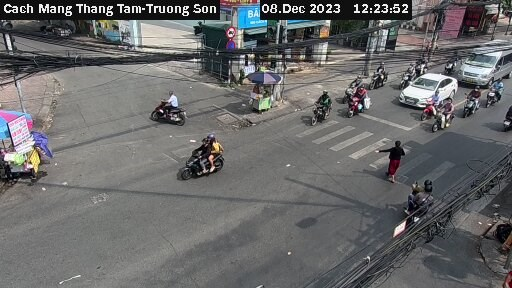car: (399, 70, 461, 114), (457, 38, 512, 87)
motorbike: (167, 138, 241, 183), (142, 91, 201, 126), (403, 180, 439, 221), (345, 85, 383, 122), (304, 93, 337, 123), (434, 102, 460, 135), (455, 87, 483, 116), (482, 78, 508, 103), (394, 61, 420, 83), (367, 63, 388, 87)
